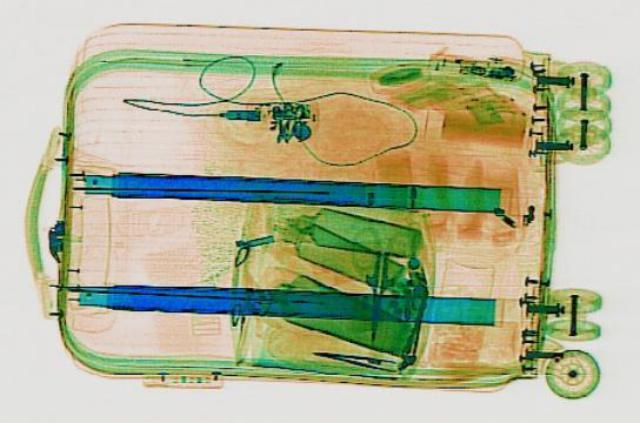Knife: (363, 248, 389, 342)
